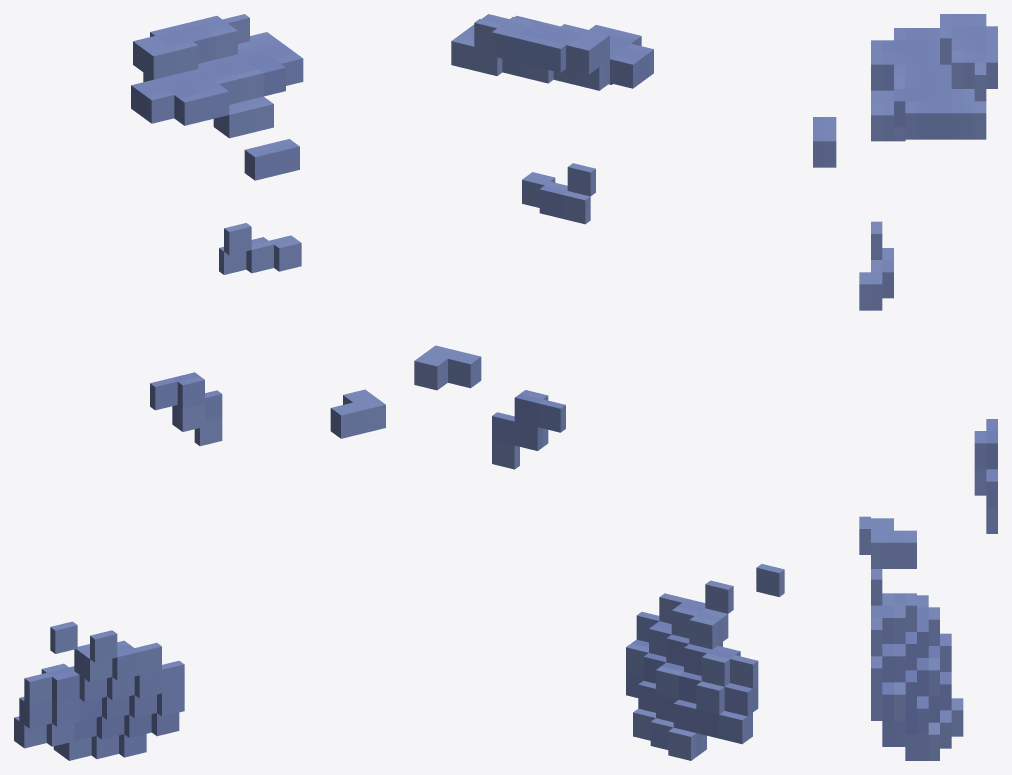
The picture shows the model from 3 angles, left to right: view 1: azimuth 30°, elevation 25°; view 2: azimuth 150°, elevation 25°; view 3: azimuth 270°, elevation 25°; orthographic projection. The views are drawn at different scales.
Parts seen in each view (by area): view 1: world; view 2: world; view 3: world.
Boxes of the visible parts, x1=… form: world: x1=14, y1=14, x2=385, y2=760; world: x1=414, y1=14, x2=784, y2=760; world: x1=813, y1=14, x2=997, y2=760.
Size of the model in its own units: 2.34 by 4.53 by 1.
